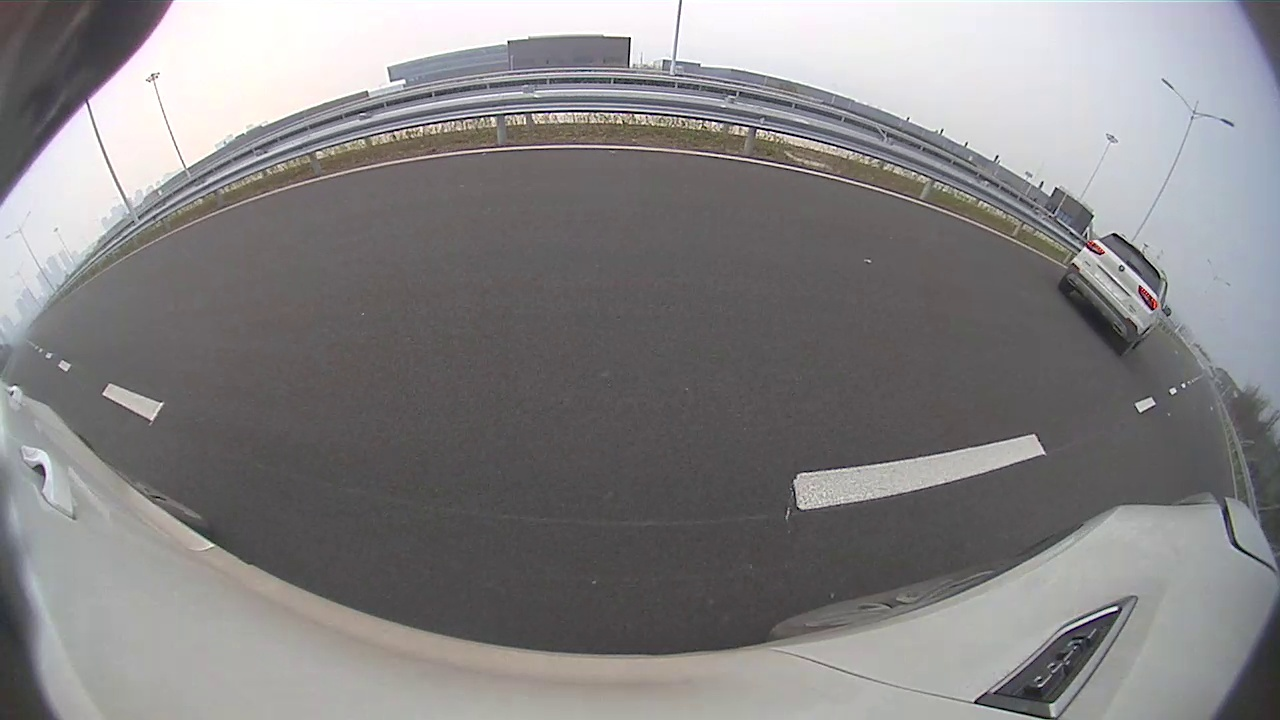car: (1058, 232, 1172, 357)
